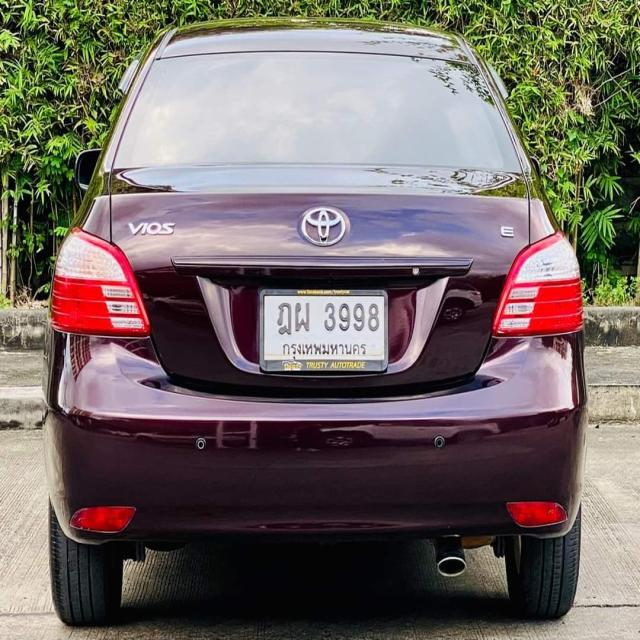license_plate: (257, 285, 391, 376)
